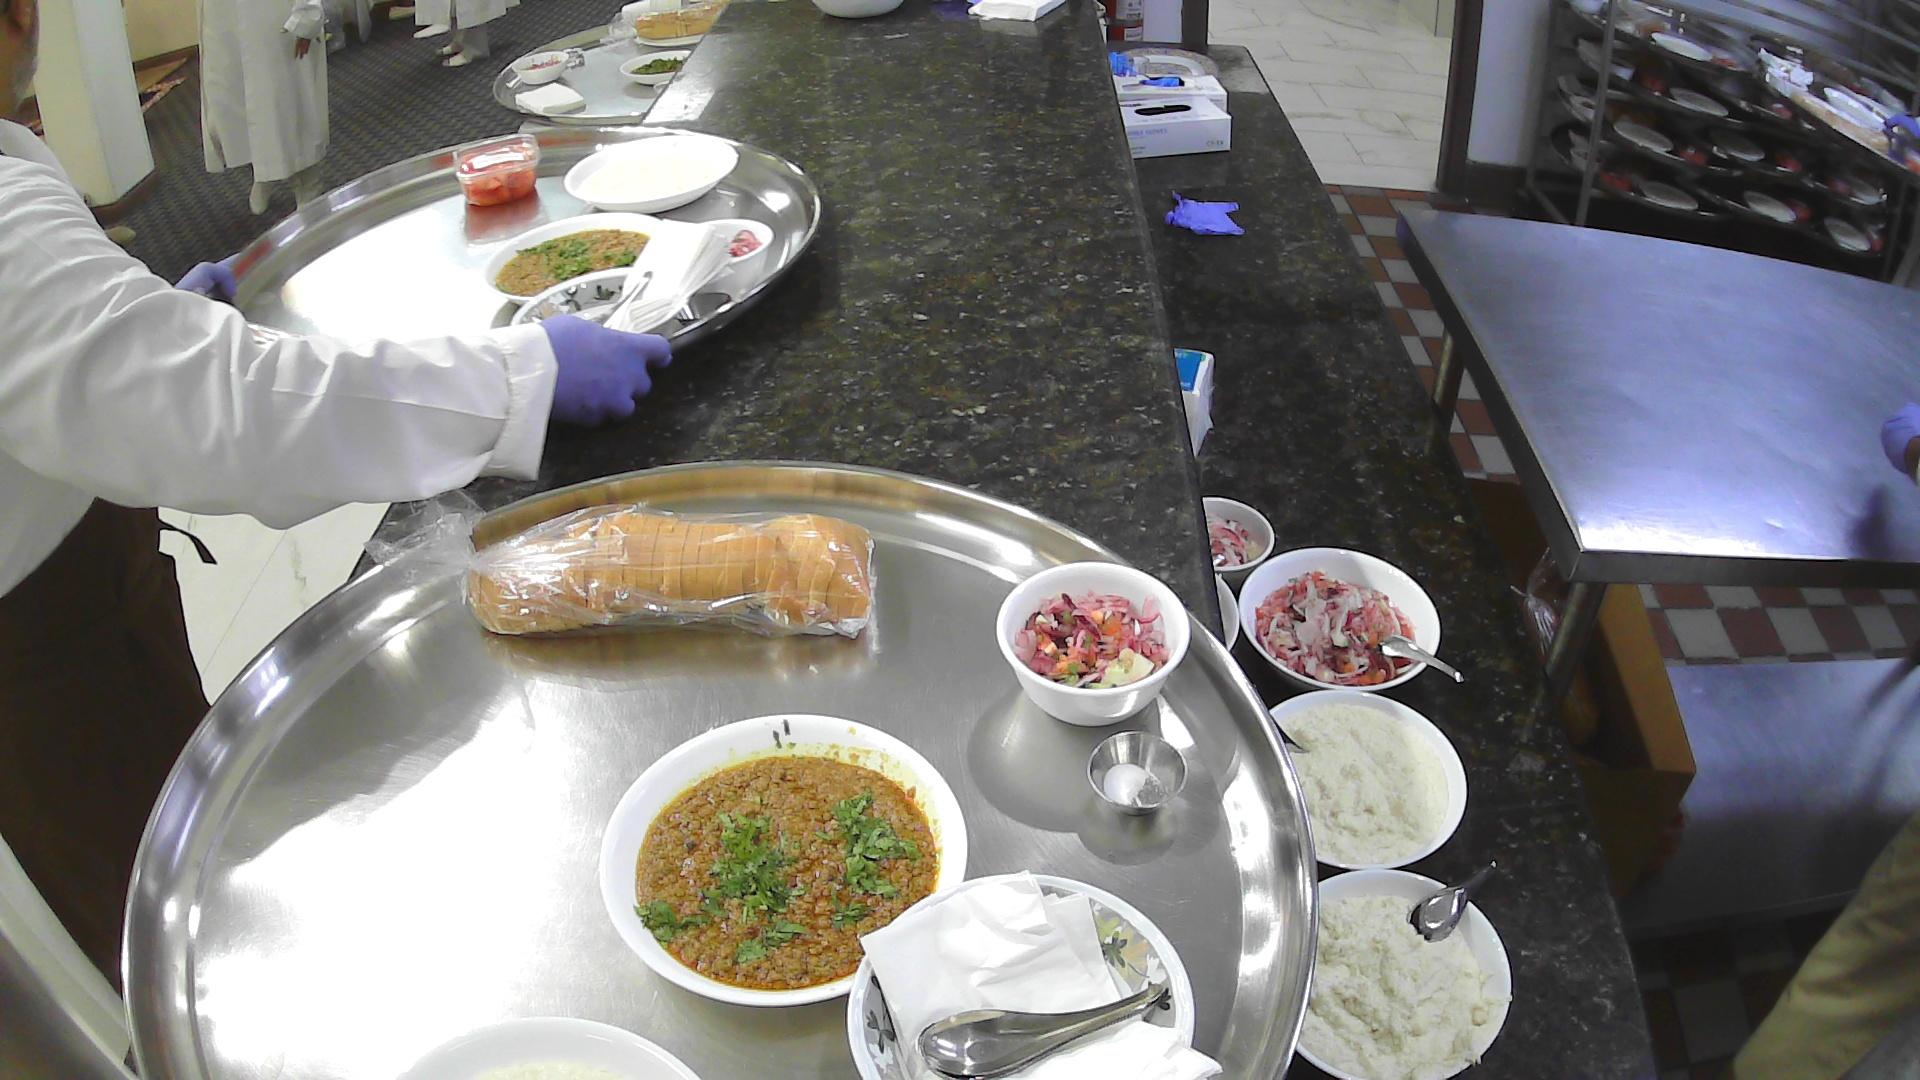thaal: (120, 454, 1323, 1080), (197, 125, 825, 358), (491, 5, 728, 125)
